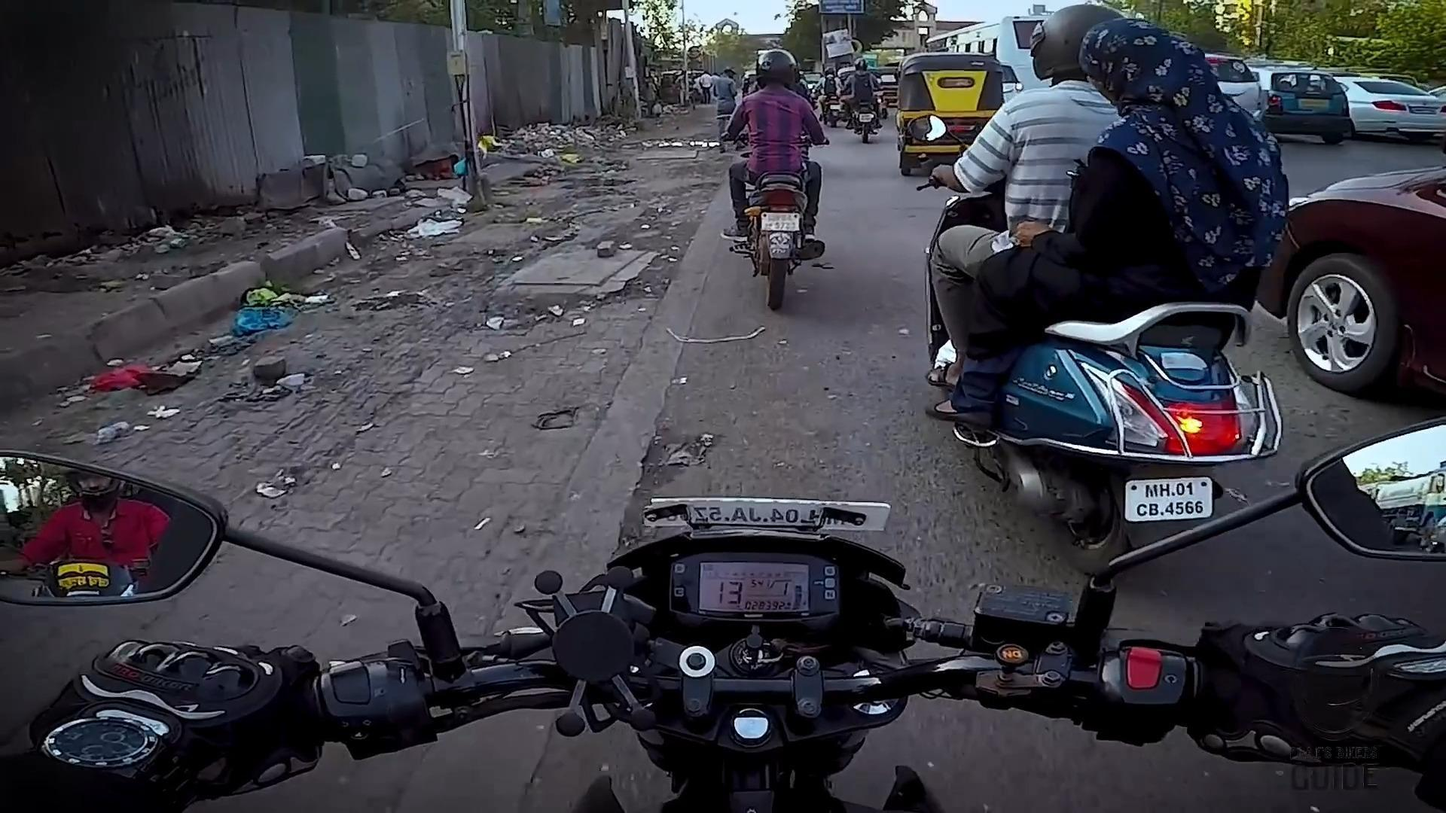Helmet: (1018, 0, 1130, 88), (744, 41, 809, 98)
bike: (898, 98, 1288, 580), (715, 116, 834, 313)
no-helmet: (1077, 12, 1217, 119)
number-plate: (1127, 476, 1212, 519)
rider: (934, 3, 1271, 419), (929, 0, 1119, 385), (723, 42, 827, 234)
